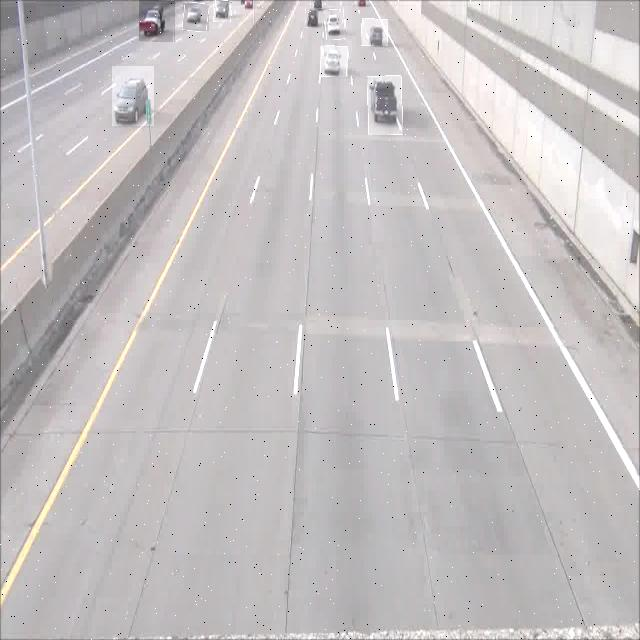Car: (112, 66, 154, 126), (368, 76, 402, 135), (140, 0, 176, 42), (320, 46, 348, 77), (183, 3, 209, 31), (362, 19, 388, 46), (326, 9, 346, 40), (213, 0, 231, 22), (305, 8, 323, 28)
